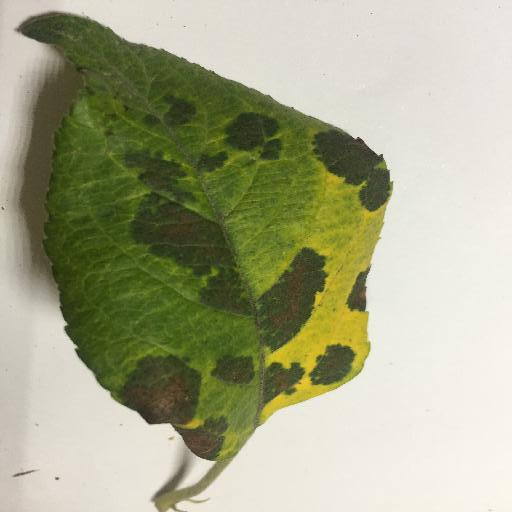Brown_Spot: (128, 213, 230, 270), (314, 136, 387, 204), (265, 257, 318, 344), (123, 355, 191, 416), (225, 110, 281, 152), (137, 145, 185, 188), (194, 283, 249, 314), (178, 423, 220, 460), (211, 350, 257, 383), (319, 350, 351, 380), (360, 175, 389, 206), (162, 101, 194, 129), (344, 278, 367, 312), (273, 366, 294, 389)
